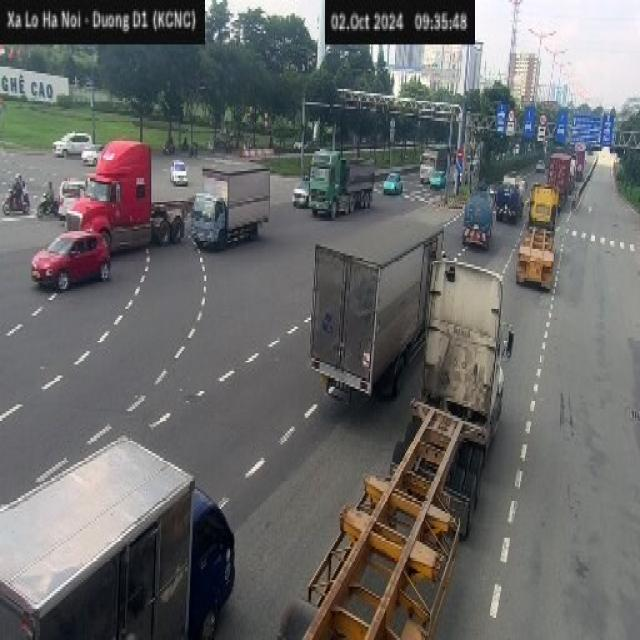car: (32, 232, 114, 291), (60, 171, 86, 218), (52, 132, 92, 154), (294, 170, 309, 214), (382, 170, 406, 197), (169, 158, 189, 188), (430, 158, 446, 192), (79, 144, 100, 168), (534, 156, 545, 174)
container-truck: (268, 261, 507, 640), (60, 141, 194, 250), (516, 182, 560, 295), (548, 151, 577, 209)
motorcycle: (0, 188, 31, 221), (38, 193, 63, 223)
person: (11, 167, 20, 196), (48, 178, 56, 206), (18, 168, 25, 198)
truck: (0, 429, 234, 634), (312, 218, 454, 395), (193, 150, 280, 243), (310, 144, 376, 216), (466, 181, 496, 260), (498, 174, 531, 222), (419, 140, 449, 177)
